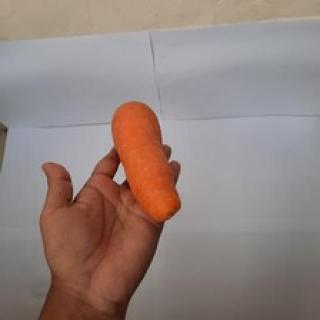carrot: (112, 101, 182, 223)
